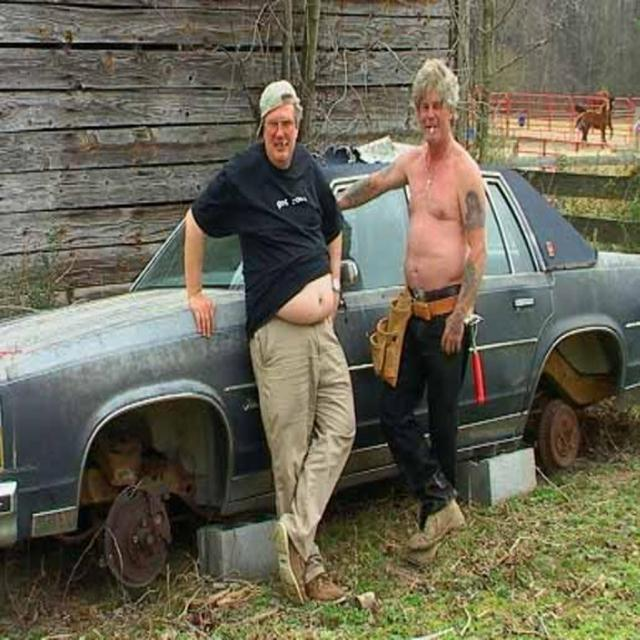nomask: (416, 77, 454, 139), (265, 109, 297, 163)
